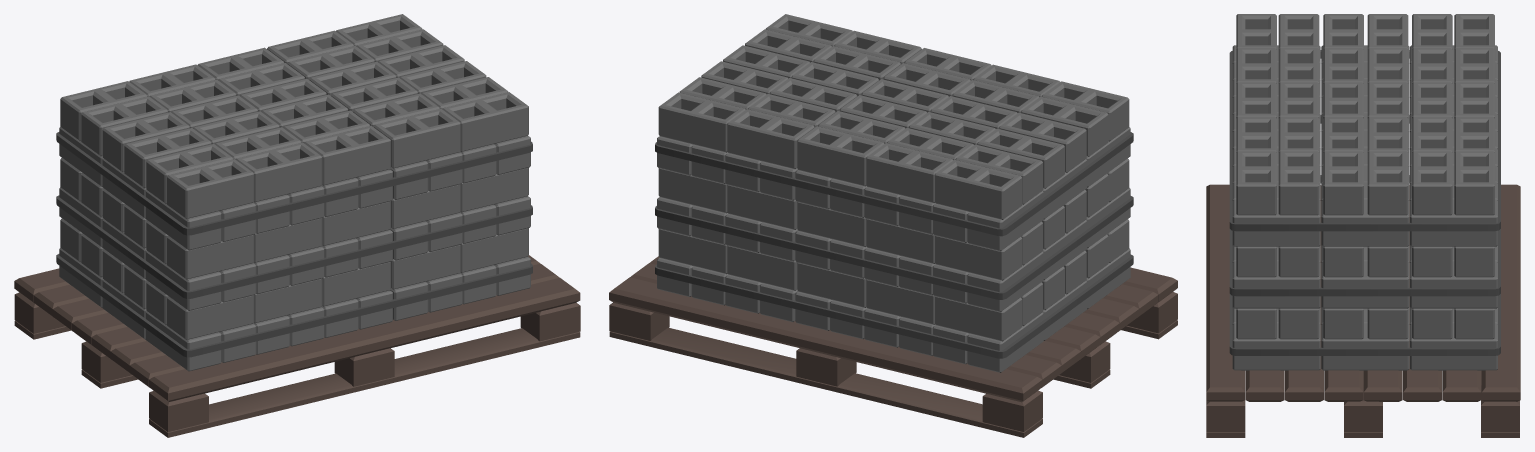
File: props_17.glb
The picture shows the model from 3 angles, left to right: view 1: azimuth 30°, elevation 25°; view 2: azimuth 150°, elevation 25°; view 3: azimuth 270°, elevation 25°; orthographic projection. The views are drawn at different scales.
Visible parts, largest first — view 1: props_17; view 2: props_17; view 3: props_17.
Part boxes in pixels (left/top/right/bottom): props_17: left=14, top=14, right=580, bottom=437; props_17: left=609, top=14, right=1177, bottom=437; props_17: left=1206, top=14, right=1520, bottom=437.
Size of the model in its own units: 3.08 by 1.65 by 1.99.
1 material, 1 textured.
